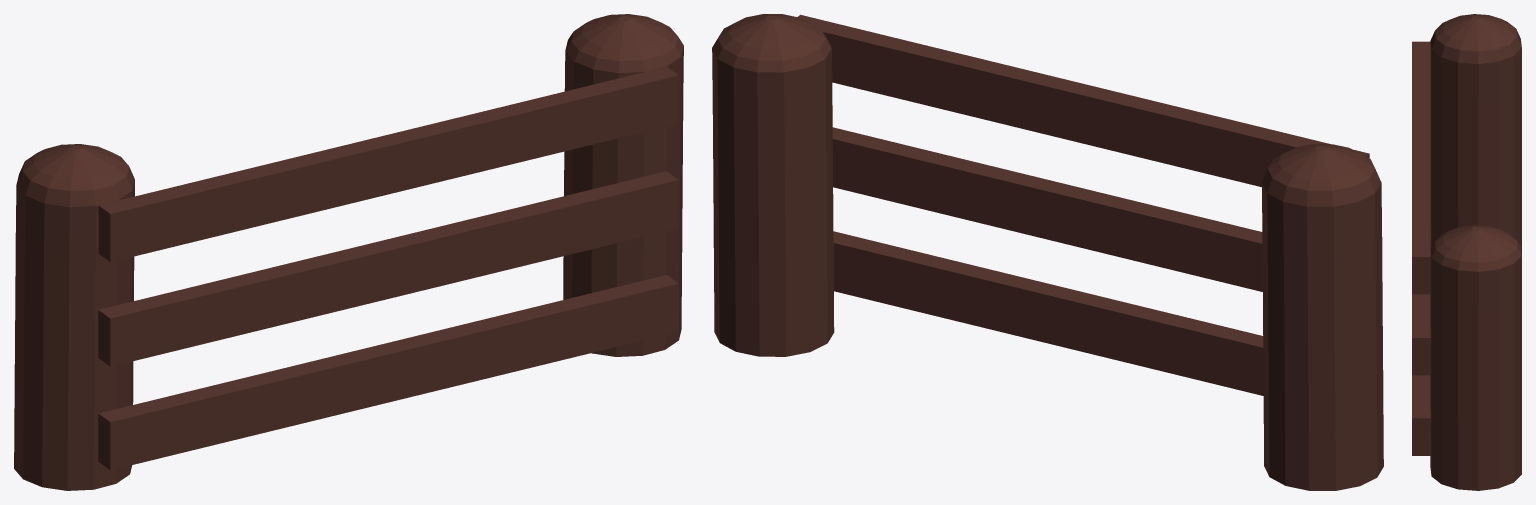
Rendered from fence_twopiece.fbx.
3 views of the same model, side by side, from view 1: azimuth 30°, elevation 25°; view 2: azimuth 150°, elevation 25°; view 3: azimuth 270°, elevation 25° (orthographic). The views are drawn at different scales.
Visible parts, largest first — view 1: Cylinder; view 2: Cylinder; view 3: Cylinder.
Boxes of the visible parts, x1,y1,x2,y2 form: Cylinder: (14,14,683,490); Cylinder: (712,14,1383,490); Cylinder: (1412,14,1521,490).
Size of the model in its own units: 521 by 242 by 97.52.
